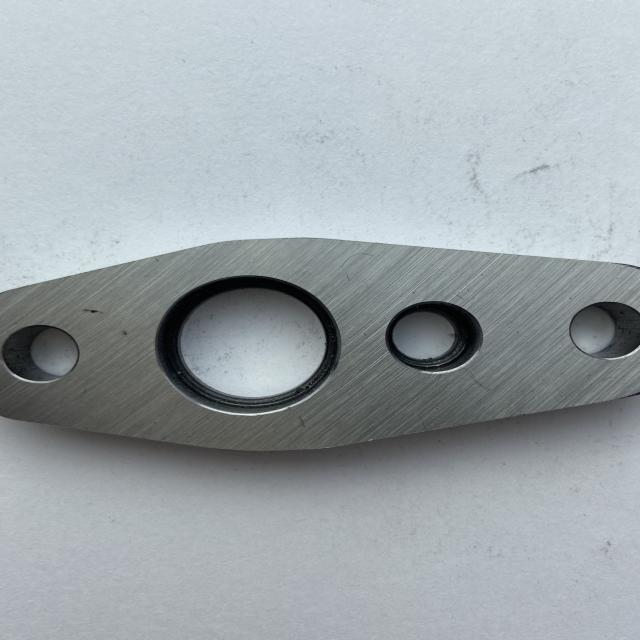lines: (338, 251, 376, 283), (463, 368, 491, 392), (79, 306, 110, 316), (449, 289, 468, 303), (296, 414, 310, 429), (115, 328, 132, 340)
